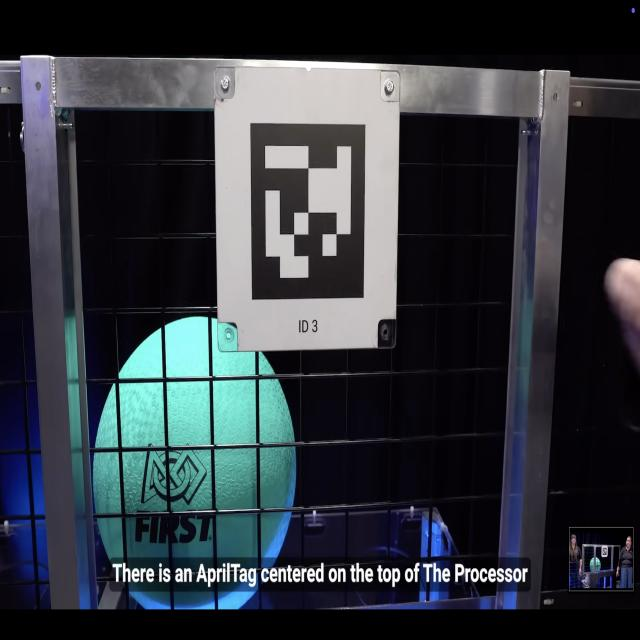algae: (89, 313, 303, 615)
